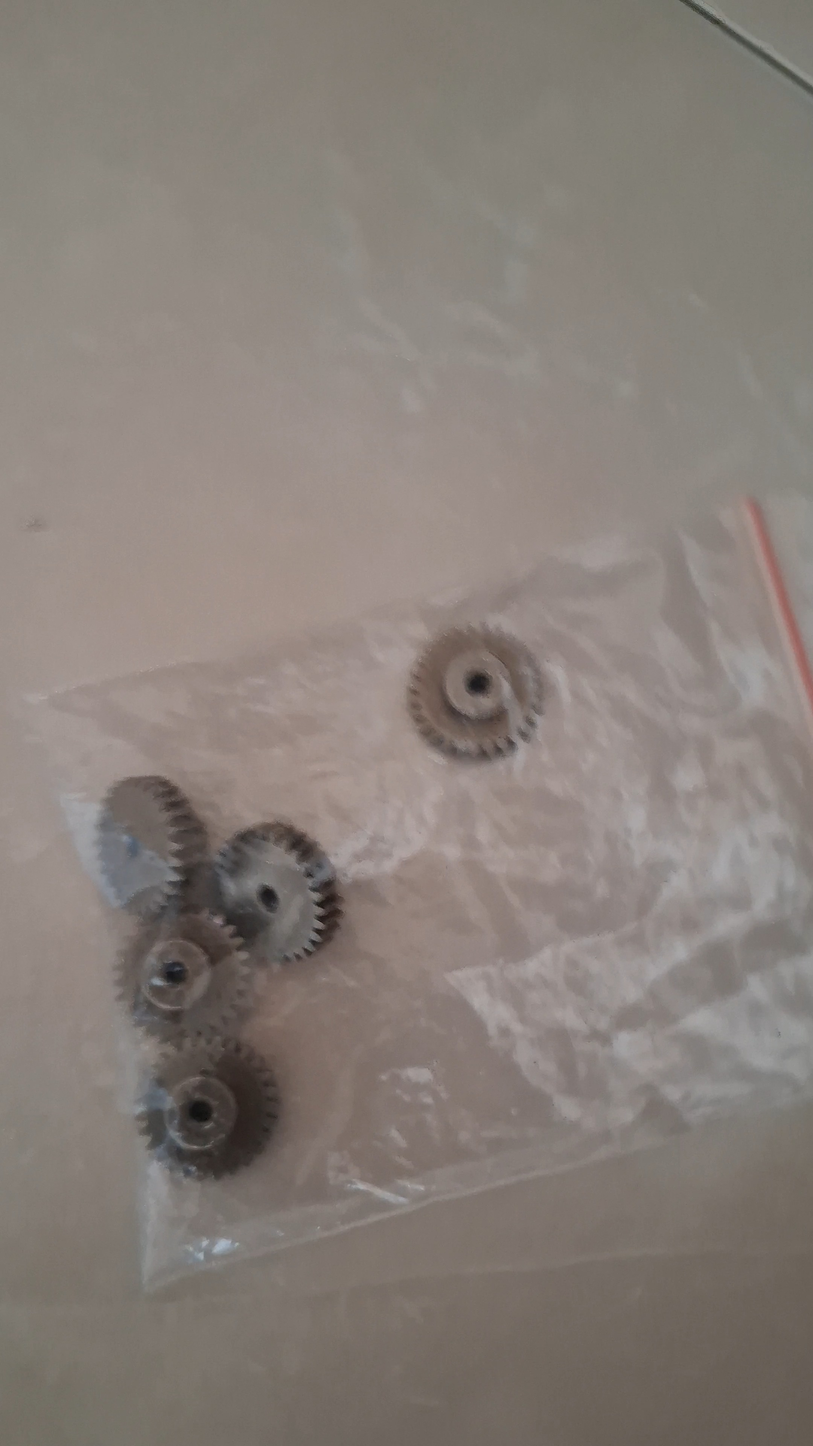spur gear: (137, 1039, 279, 1178), (214, 821, 341, 961), (408, 627, 542, 758), (117, 914, 255, 1040), (97, 776, 207, 917)
